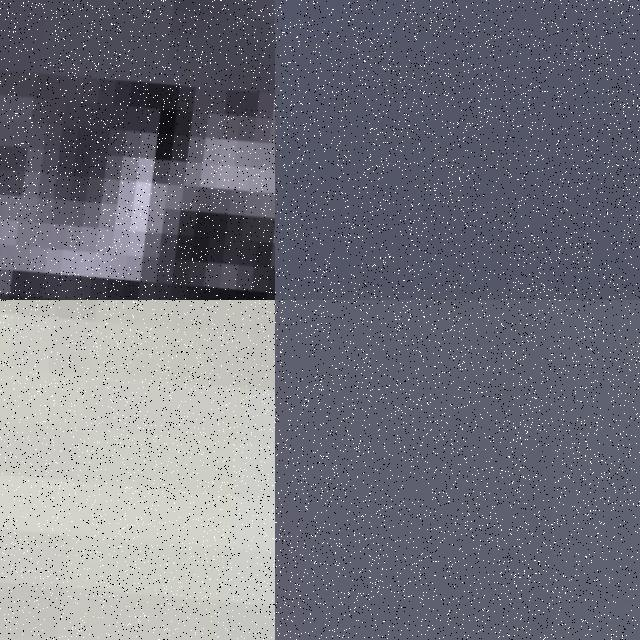0: (0, 0, 275, 300)
drone: (0, 300, 275, 640)
